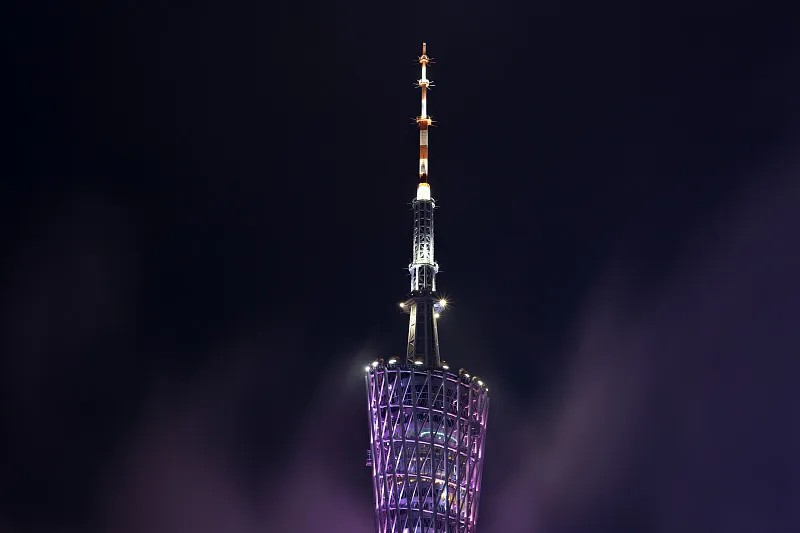Canton: (364, 36, 490, 533)
